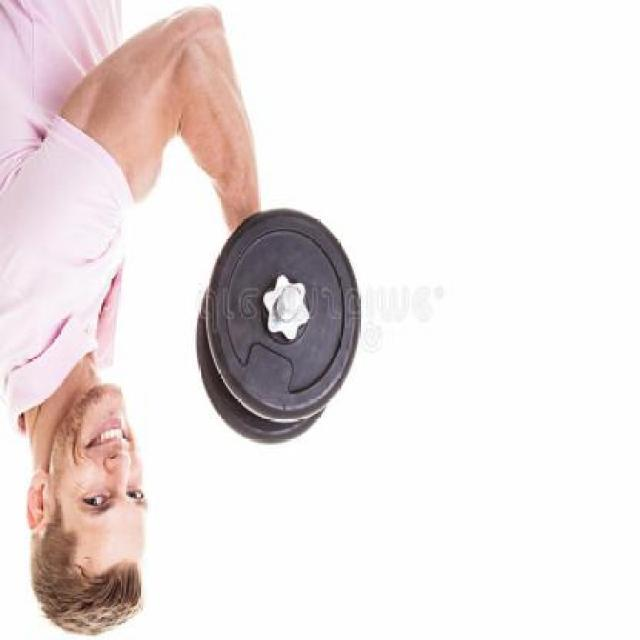Barbell: (274, 284, 304, 322)
